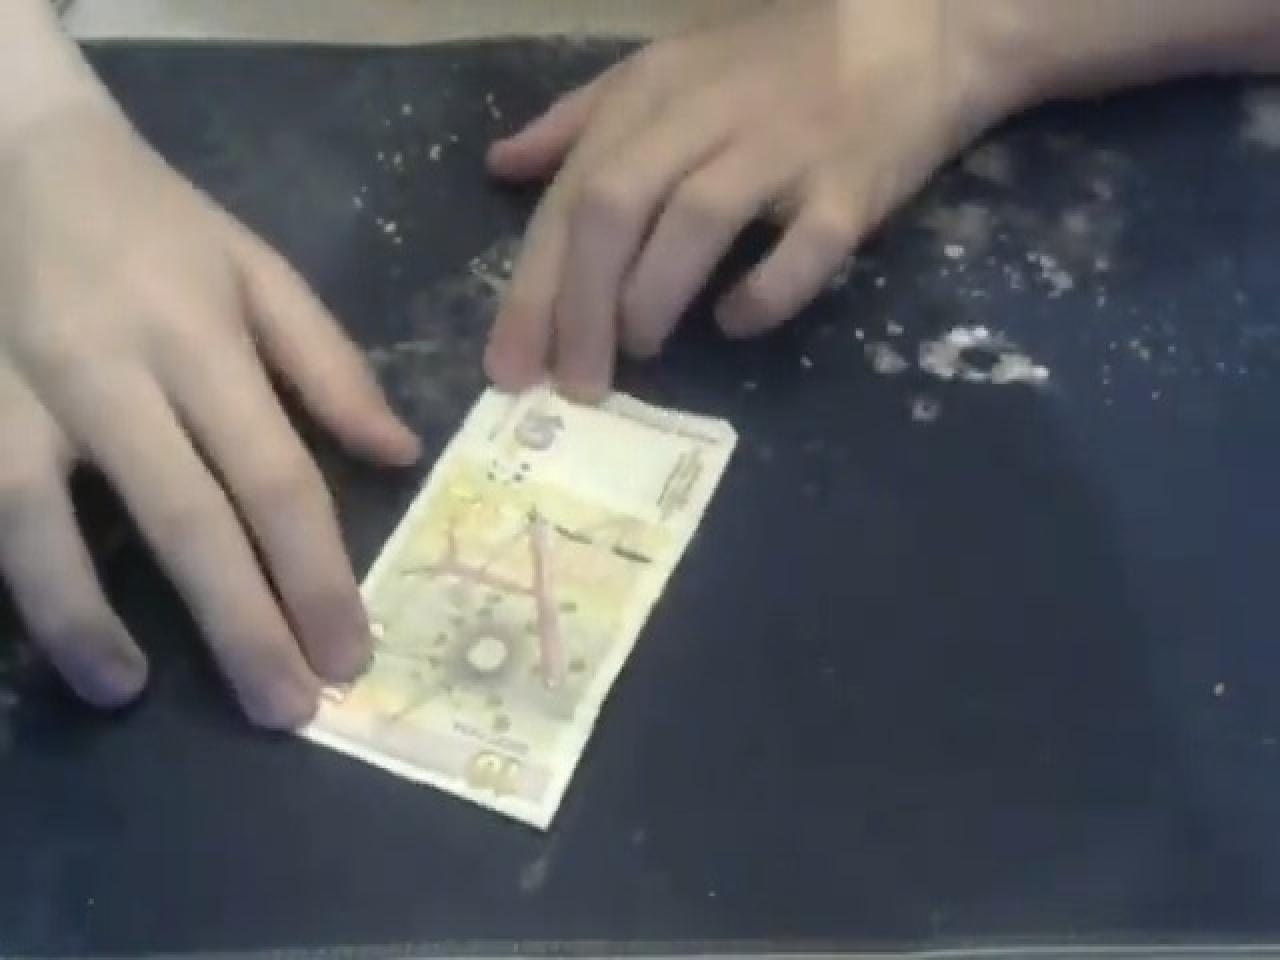10leva: (431, 719, 535, 834), (492, 389, 572, 496)
